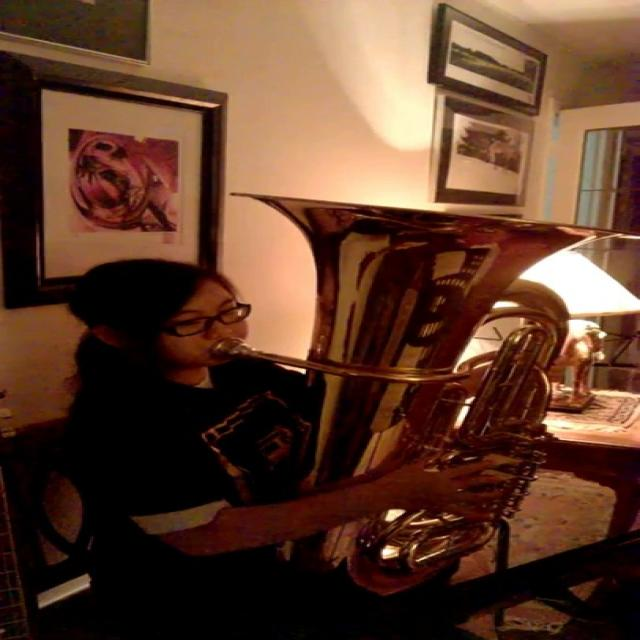Tuba: (227, 182, 570, 594)
